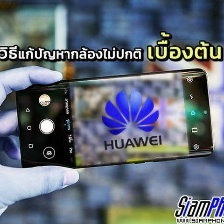phone: (12, 64, 217, 177)
